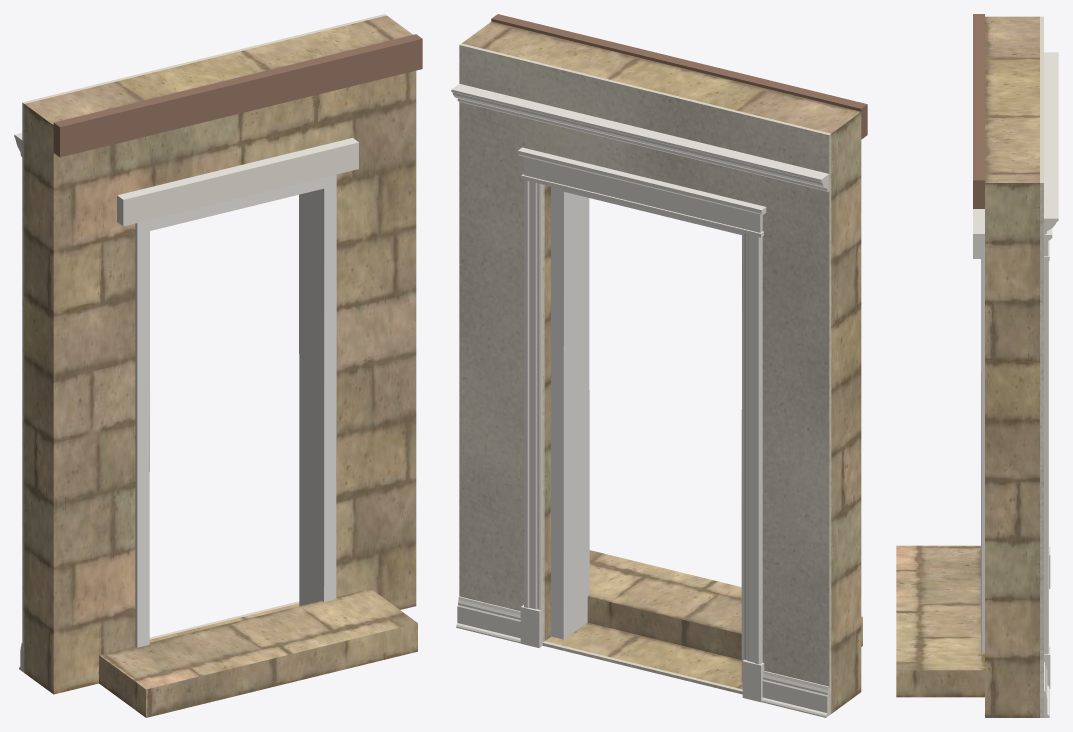
The model's file is wall_stone_door_back.glb.
3 views of the same model, side by side, from view 1: azimuth 30°, elevation 25°; view 2: azimuth 150°, elevation 25°; view 3: azimuth 270°, elevation 25° (orthographic). The views are drawn at different scales.
Parts seen in each view (by area): view 1: wall_stone_door_back_stone2, wall_stone_door_back_frame, wall_stone_door_back_timber, wall_stone_door_back_trim, wall_stone_door_back_plaster; view 2: wall_stone_door_back_plaster, wall_stone_door_back_stone2, molduras, wall_stone_door_back_frame, wall_stone_door_back_timber; view 3: wall_stone_door_back_stone2, molduras, wall_stone_door_back_plaster, wall_stone_door_back_timber, wall_stone_door_back_frame, wall_stone_door_back_trim.
Boxes of the visible parts, box(x1,y1,x2,y2) form: wall_stone_door_back_stone2: box(24, 15, 417, 717); wall_stone_door_back_frame: box(135, 174, 336, 647); wall_stone_door_back_timber: box(53, 34, 422, 157); wall_stone_door_back_trim: box(117, 138, 358, 226); wall_stone_door_back_plaster: box(22, 14, 386, 672); wall_stone_door_back_plaster: box(459, 43, 831, 714); wall_stone_door_back_stone2: box(462, 21, 862, 713); molduras: box(451, 83, 829, 717); wall_stone_door_back_frame: box(551, 186, 744, 682); wall_stone_door_back_timber: box(491, 14, 867, 139); wall_stone_door_back_stone2: box(896, 16, 1039, 717); molduras: box(1044, 52, 1058, 717); wall_stone_door_back_plaster: box(1040, 16, 1043, 717); wall_stone_door_back_timber: box(973, 14, 984, 208); wall_stone_door_back_frame: box(981, 259, 984, 653); wall_stone_door_back_trim: box(973, 209, 984, 258).
Size of the model in its own units: 2 by 3.02 by 0.825.
5 materials, 2 textured.
